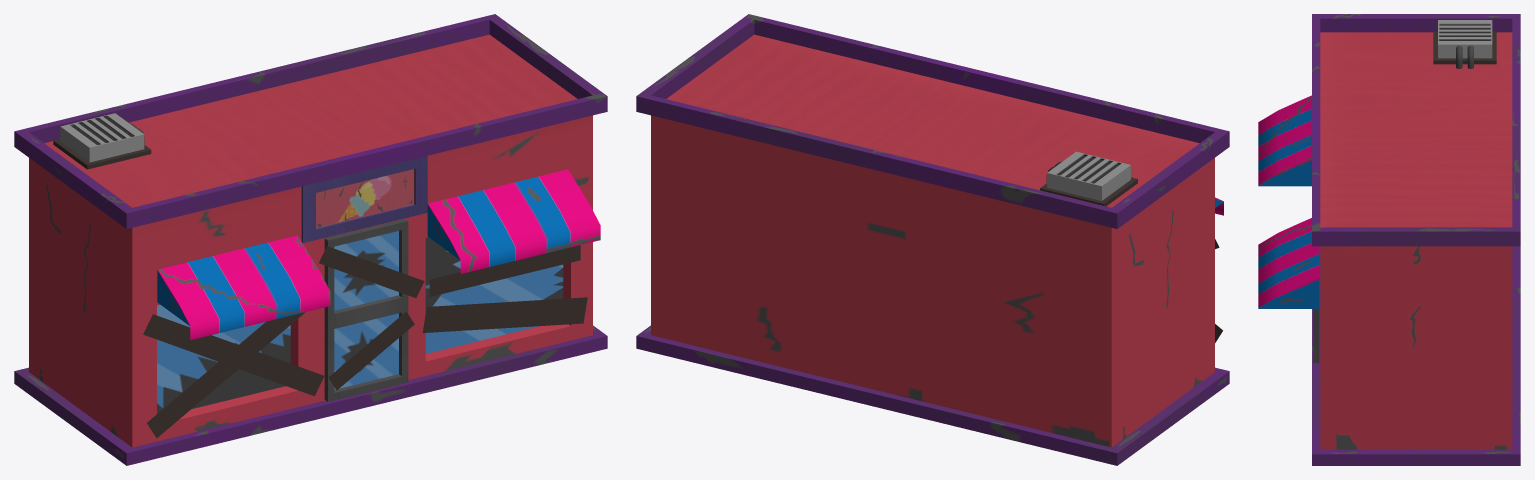
File: Edificio1Rosa.obj
3 views of the same model, side by side, from view 1: azimuth 30°, elevation 25°; view 2: azimuth 150°, elevation 25°; view 3: azimuth 270°, elevation 25° (orthographic). The views are drawn at different scales.
Visible parts, largest first — view 1: polySurface4; view 2: polySurface4; view 3: polySurface4.
Boxes of the visible parts, x1=… form: polySurface4: x1=14, y1=14, x2=607, y2=465; polySurface4: x1=636, y1=14, x2=1229, y2=465; polySurface4: x1=1258, y1=14, x2=1520, y2=465.
Size of the model in its own units: 13.95 by 7.23 by 7.1.
1 material, 1 textured.
